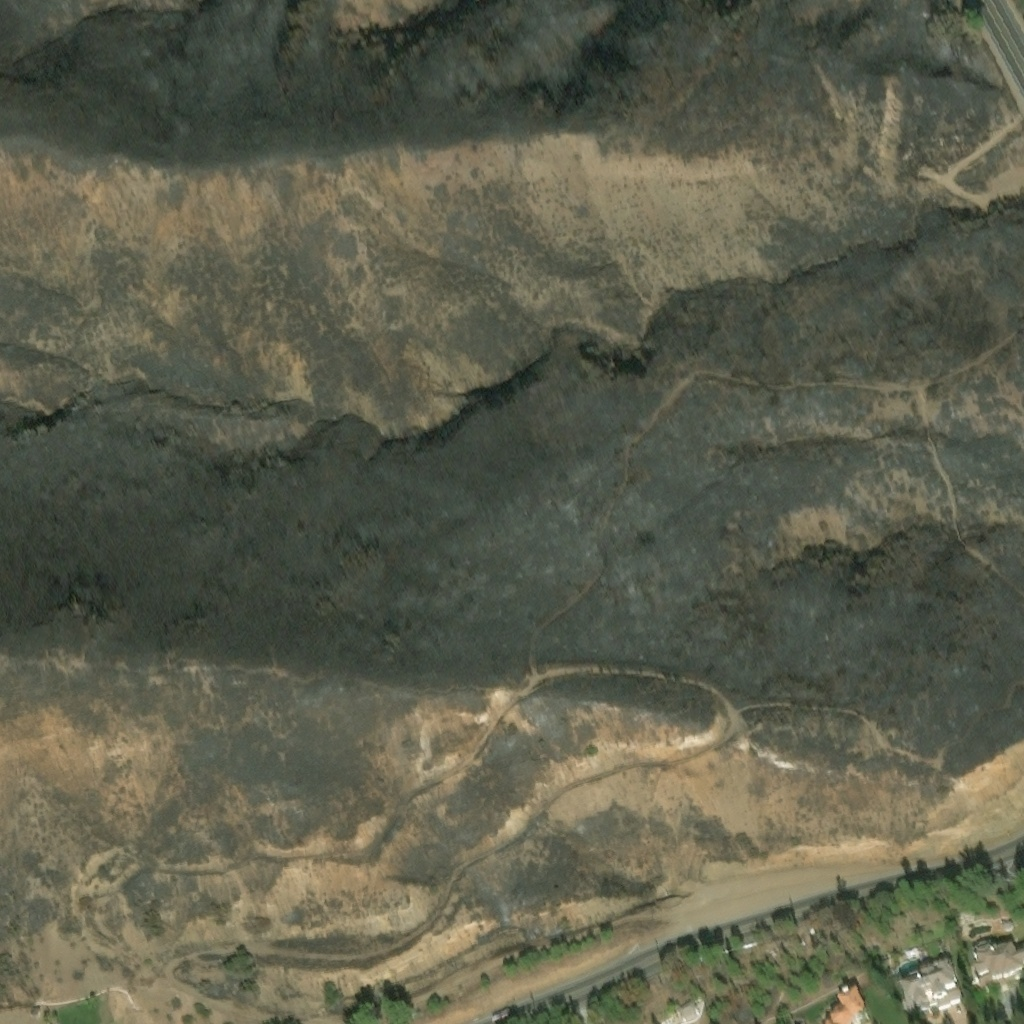0 no-damage: (900, 959, 966, 1016), (968, 940, 1023, 995), (820, 985, 868, 1023), (678, 998, 701, 1022)
